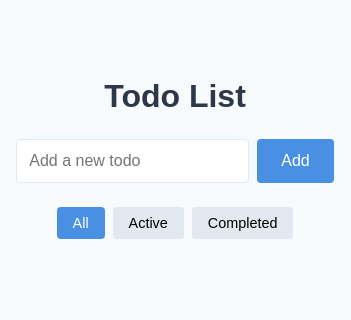
Scenario: filters todos
Type "Todo 1" into the field with placeholder "Add a new todo" at point(133, 161), box [16,139,249,183]
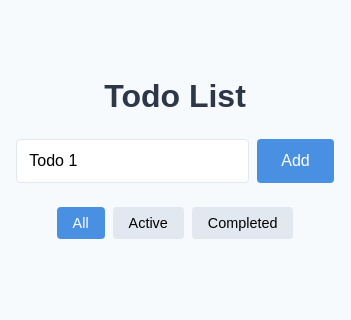
Click the button "Add" at point(296, 161), box [257,139,334,183]
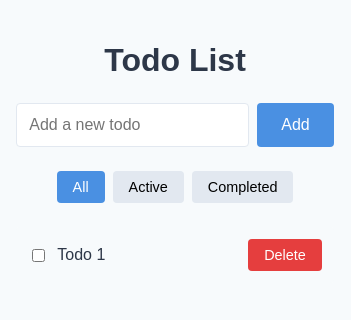
Type "Todo 2" into the field with placeholder "Add a new todo" at point(133, 125), box [16,103,249,147]
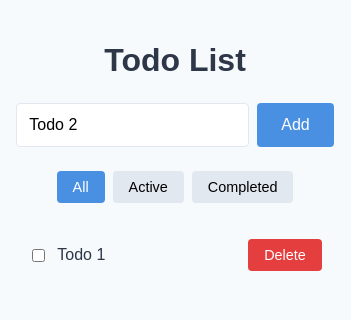
Click the button "Add" at point(296, 125), box [257,103,334,147]
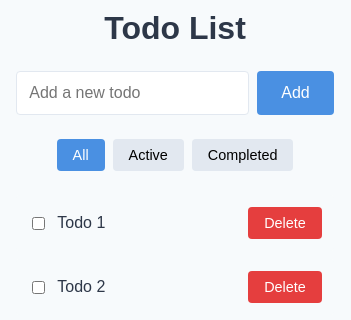
Click the checkbox next to "Todo 1" at point(39, 223), box [32,217,45,230]
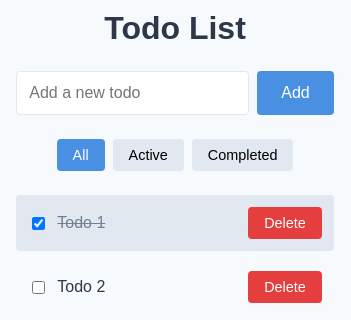
Click the button "Active" at point(148, 155), box [113,139,184,171]
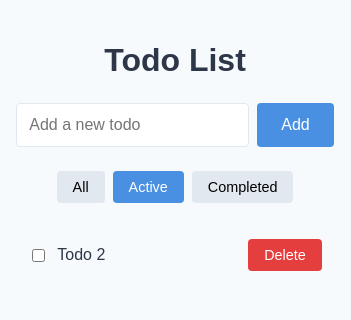
Now the text "Todo 2" is shown, box [57,246,105,263]
Now the text "Todo 1" is gone
